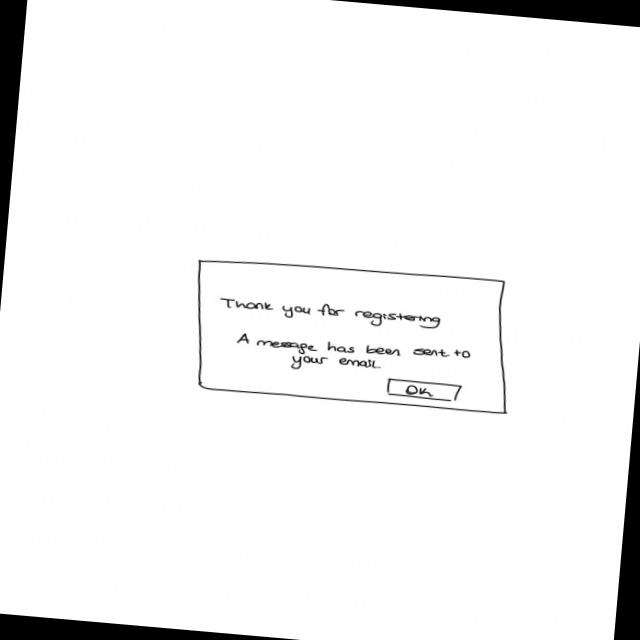button: (385, 377, 465, 404)
container: (186, 254, 522, 417)
label: (234, 329, 474, 387), (218, 294, 444, 334)
